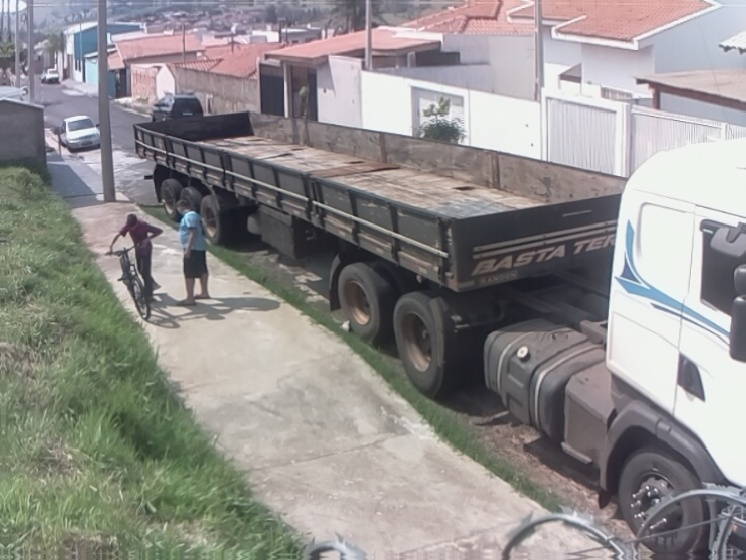person: (108, 211, 168, 306), (173, 199, 215, 309)
